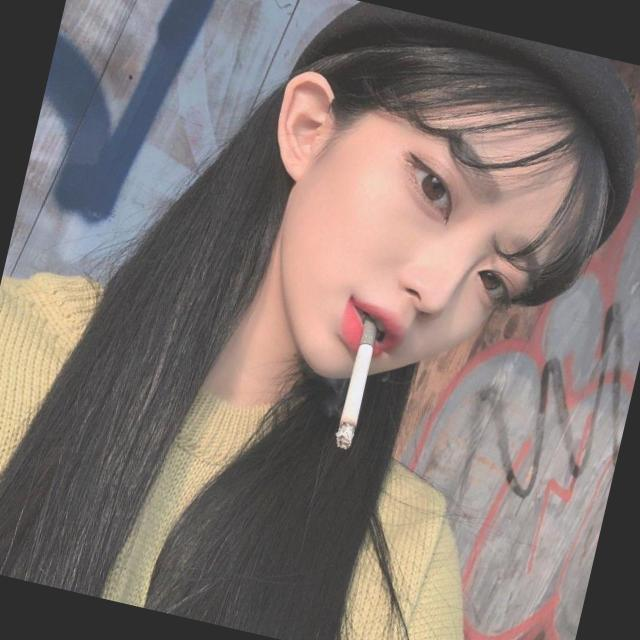cigarette: (306, 301, 406, 468)
